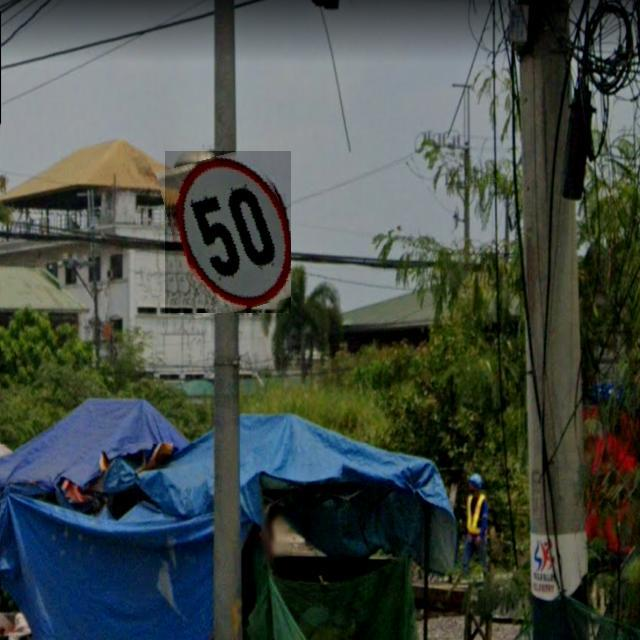50 kph: (165, 151, 291, 313)
